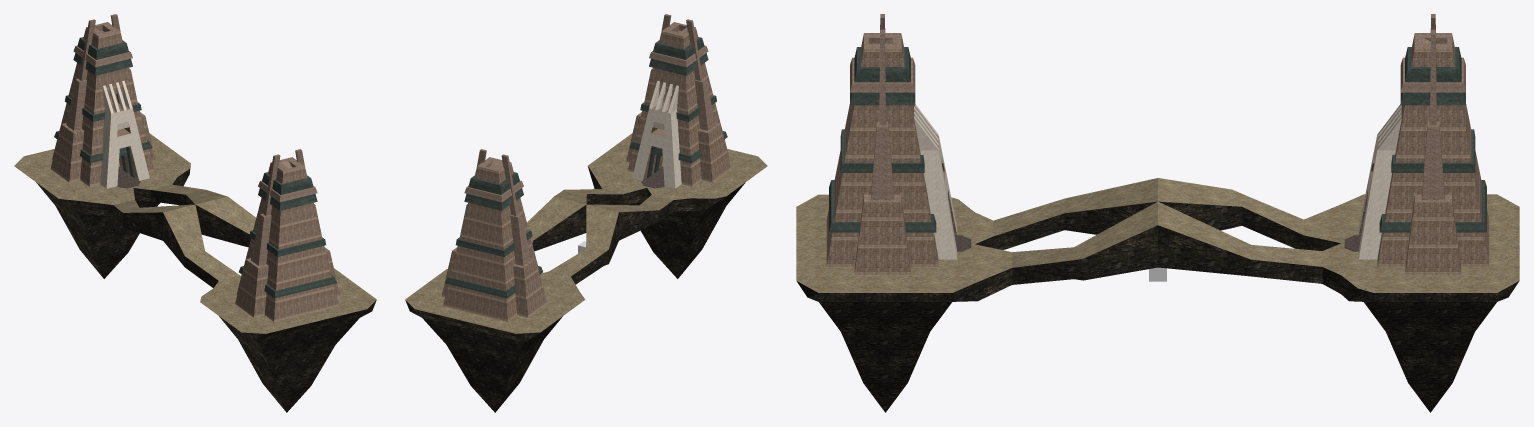
The model's file is ctf_face.glb.
The picture shows the model from 3 angles, left to right: view 1: azimuth 30°, elevation 25°; view 2: azimuth 150°, elevation 25°; view 3: azimuth 270°, elevation 25°; orthographic projection. The views are drawn at different scales.
Parts seen in each view (by area): view 1: ctf_face; view 2: ctf_face; view 3: ctf_face.
Part boxes in pixels (x1,y1,x2,y2): ctf_face: [14, 14, 376, 412]; ctf_face: [405, 14, 767, 412]; ctf_face: [796, 14, 1519, 412].
Bounding box in the file's own units: 25.61 × 47.1 × 79.38.
21 materials, 20 textured.
